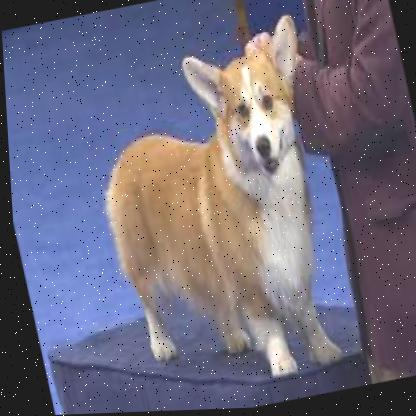dog: (70, 10, 372, 404)
